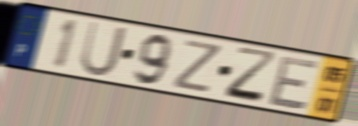1: (53, 18, 80, 70)
9: (134, 32, 174, 87)
E: (266, 54, 322, 112)
U: (78, 19, 129, 79)
Z: (222, 44, 281, 107), (170, 38, 225, 96)
